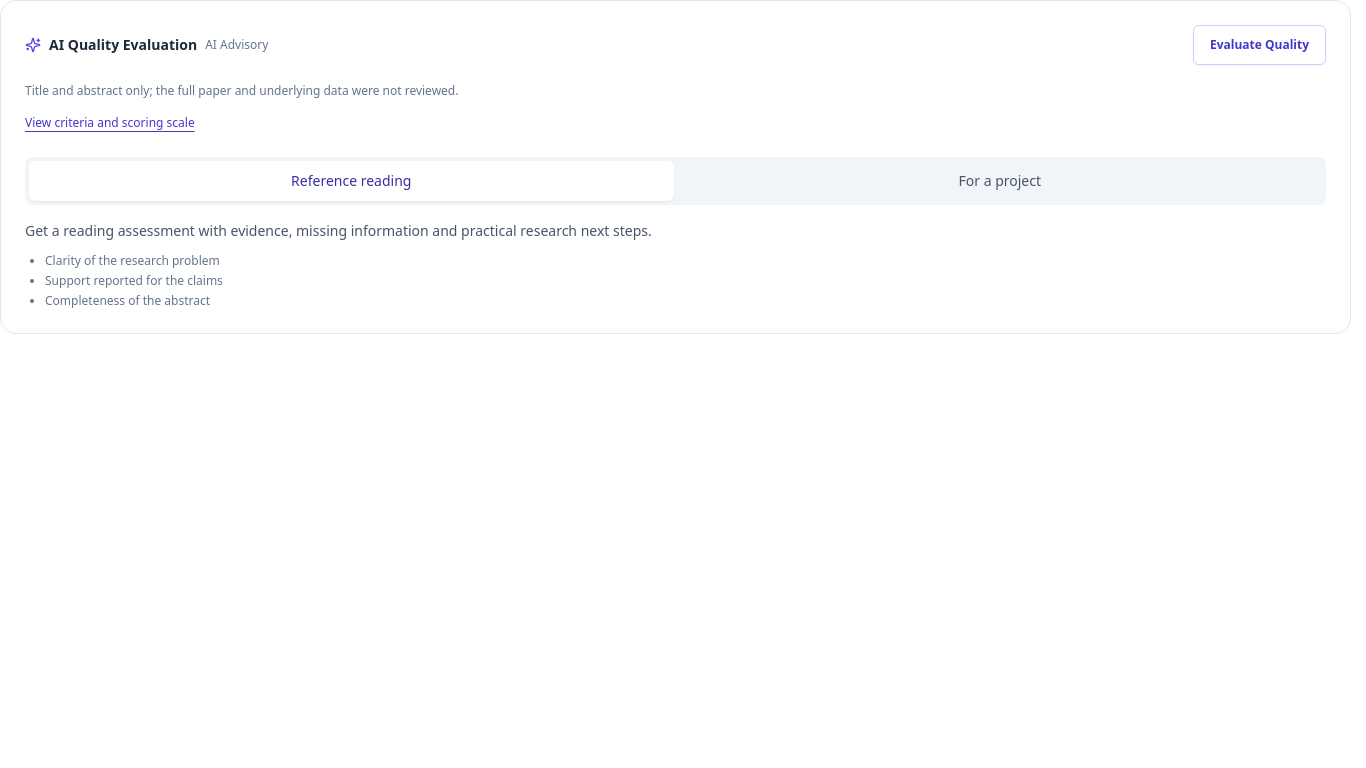
AI quality assessment reading flow › lets a reader inspect target-specific questions and anchors before starting AI
This screenshot has width=1366, height=768.
Click the button "View criteria and scoring scale": click(110, 122) [25,104,195,140]
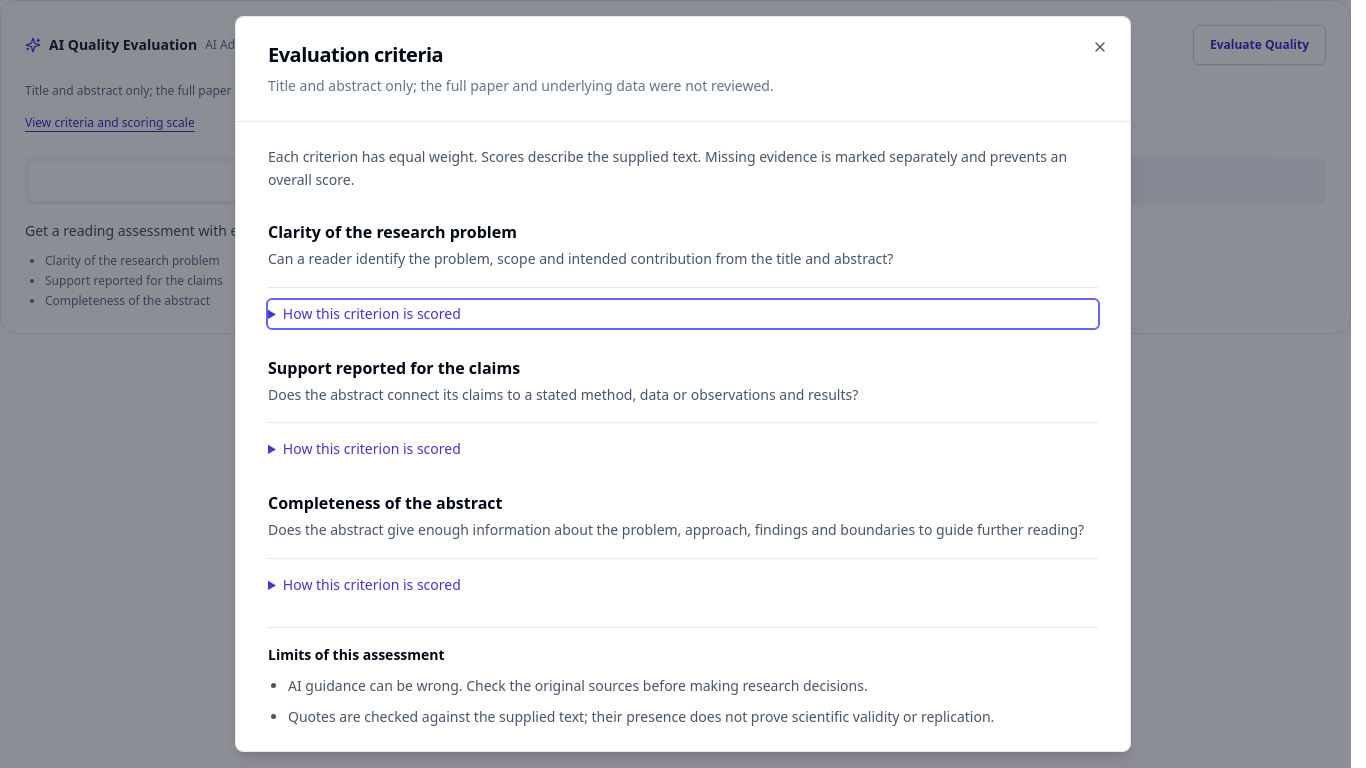
Now the dialog shows "Clarity of the research problem", box [268,221,517,243]
Now the dialog shows "Does the abstract connect its claims", box [268,384,858,404]
